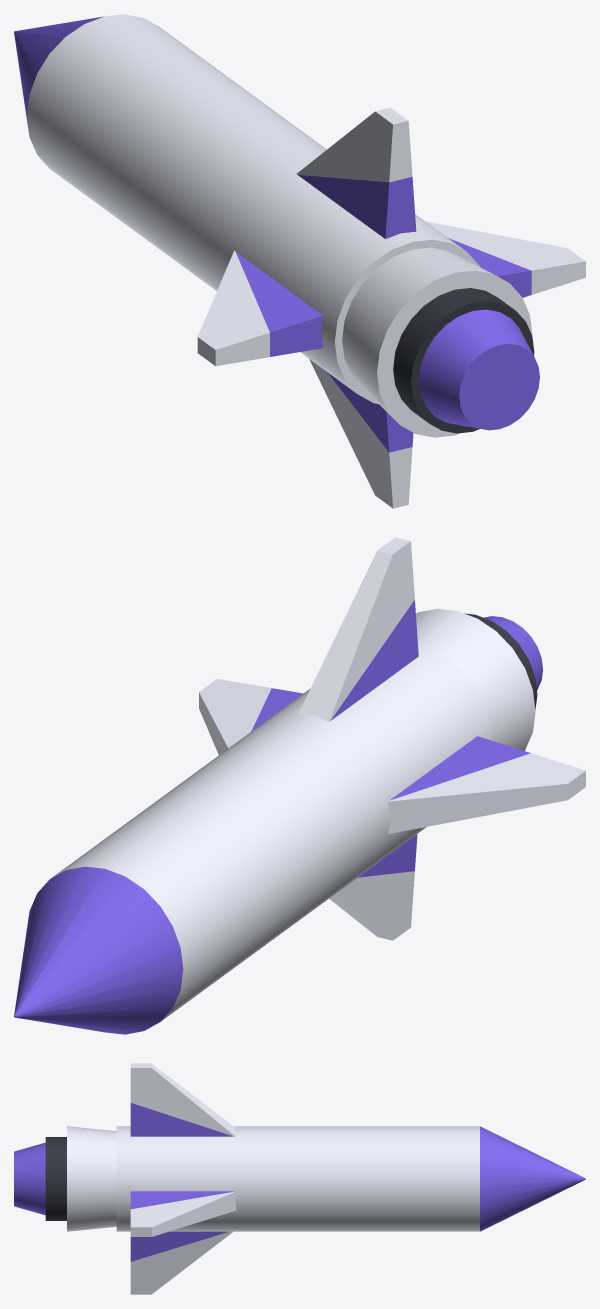
The model's file is Missile.glb.
3 views of the same model, one above another, from view 1: azimuth 30°, elevation 25°; view 2: azimuth 150°, elevation 25°; view 3: azimuth 270°, elevation 25° (orthographic). The views are drawn at different scales.
Parts seen in each view (by area): view 1: cylinder, rudder (×4), engine_round, cone; view 2: cylinder, rudder (×4), cone, engine_round; view 3: cylinder, rudder (×3), engine_round, cone.
Boxes of the visible parts, box(x1,y1,x2,y2) form: cylinder: box(27, 14, 479, 403); rudder (×4): box(197, 107, 585, 508); engine_round: box(342, 247, 539, 437); cone: box(14, 16, 103, 132); cylinder: box(52, 643, 492, 1020); rudder (×4): box(199, 537, 585, 940); cone: box(14, 866, 183, 1034); engine_round: box(416, 608, 542, 750); cylinder: box(116, 1126, 479, 1231); rudder (×3): box(130, 1063, 236, 1294); engine_round: box(14, 1126, 116, 1231); cone: box(480, 1126, 585, 1231).
Bounding box in the file's own units: 2.37 × 2.36 × 5.4.
